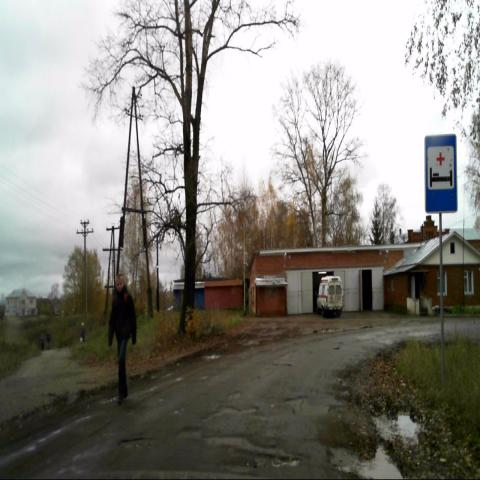7_2: (425, 135, 458, 212)
